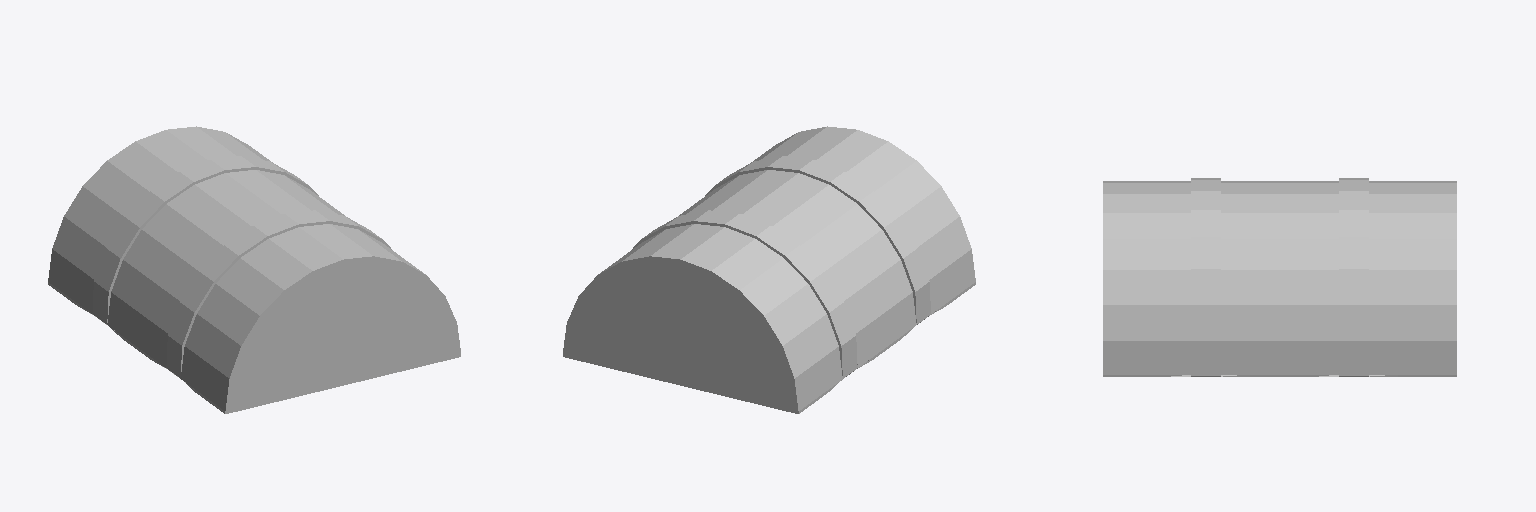
Rendered from baul2_tapa.obj.
The picture shows the model from 3 angles: view 1: azimuth 30°, elevation 25°; view 2: azimuth 150°, elevation 25°; view 3: azimuth 270°, elevation 25°; orthographic projection.
Visible parts, largest first — view 1: polySurface1 pasted__pasted__pCylinder2 pasted__group4 group; view 2: polySurface1 pasted__pasted__pCylinder2 pasted__group4 group; view 3: polySurface1 pasted__pasted__pCylinder2 pasted__group4 group.
Boxes of the visible parts, box(x1,y1,x2,y2) form: polySurface1 pasted__pasted__pCylinder2 pasted__group4 group: box(48, 126, 460, 413); polySurface1 pasted__pasted__pCylinder2 pasted__group4 group: box(563, 126, 975, 413); polySurface1 pasted__pasted__pCylinder2 pasted__group4 group: box(1103, 178, 1456, 376).
Size of the model in its own units: 0.305 by 0.1575 by 0.3929.